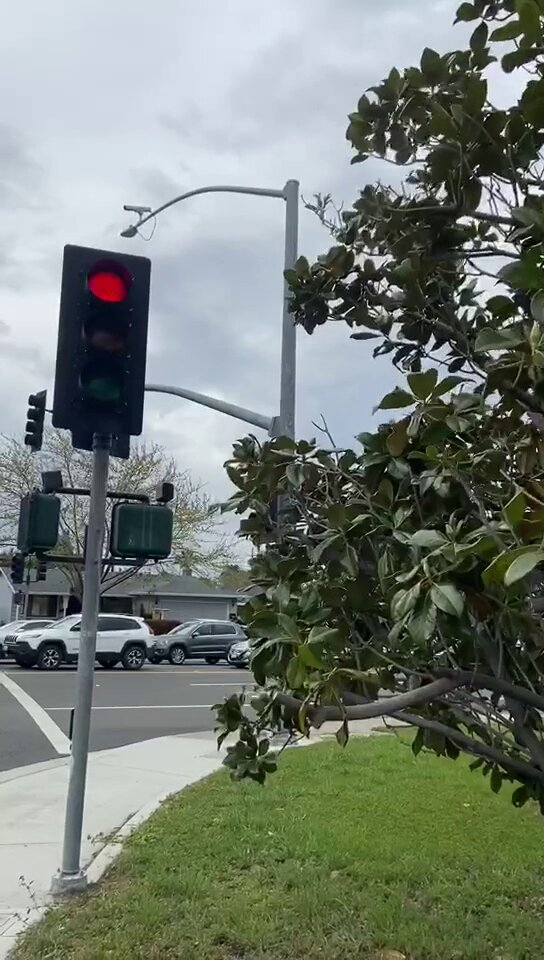red_light: (63, 256, 144, 427)
